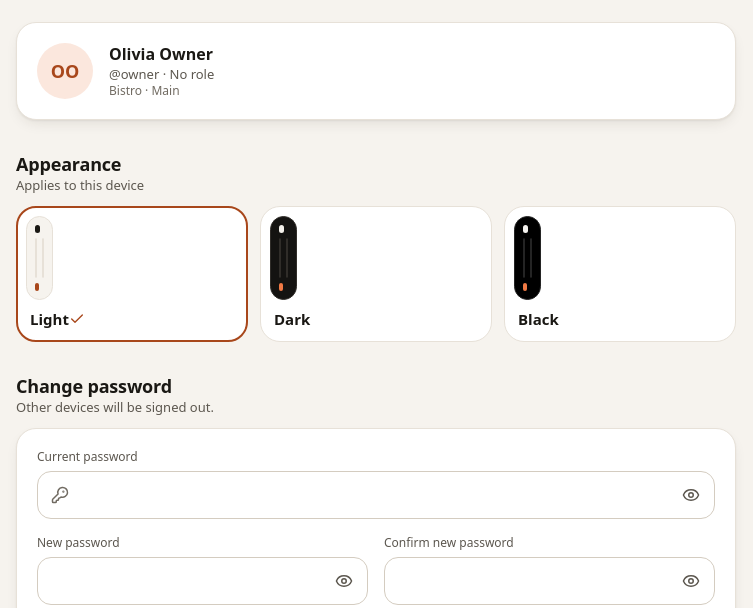
AccountPage — change password › shows an error without field details as a form message
Type "current-pass-1" into the password field labelled "Current password".
click(376, 495); type("current-pass-1")  # box [37,471,715,519]
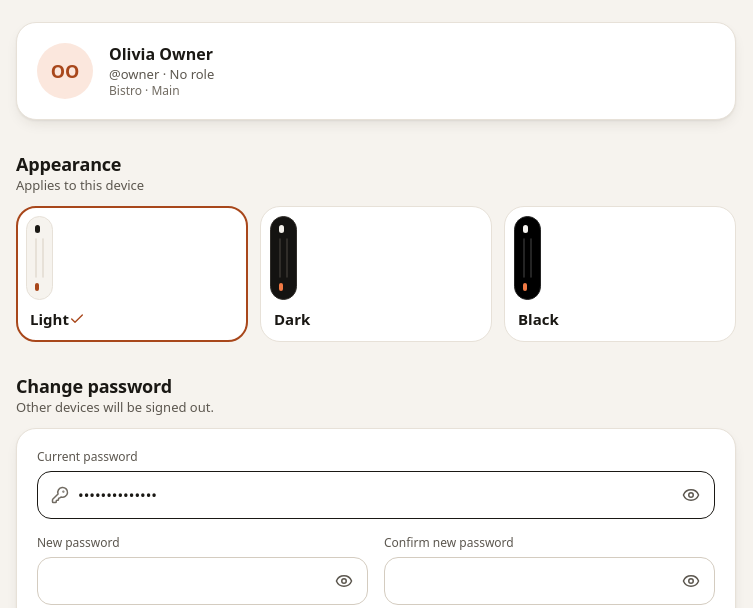
Type "brand-new-pass-9" into the password field labelled "New password".
click(202, 581); type("brand-new-pass-9")  # box [37,557,368,605]
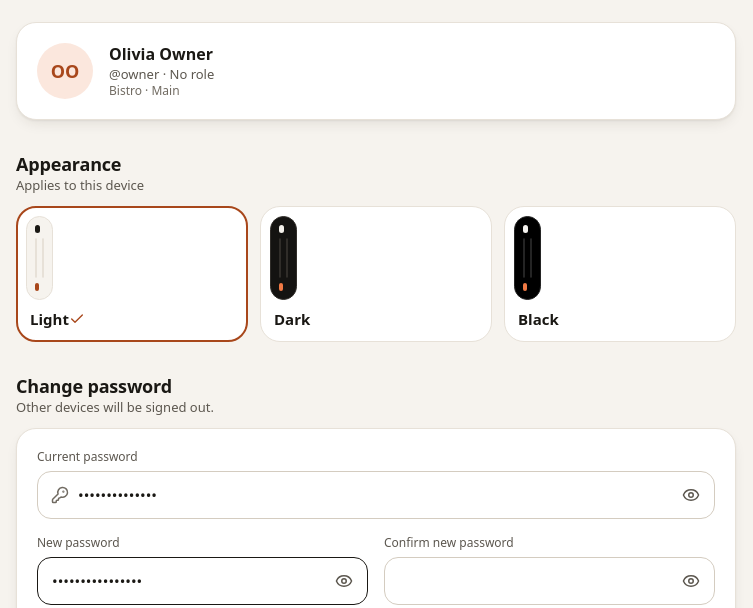
Type "brand-new-pass-9" into the password field labelled "Confirm new password".
click(550, 581); type("brand-new-pass-9")  # box [384,557,715,605]
(page scrolled)
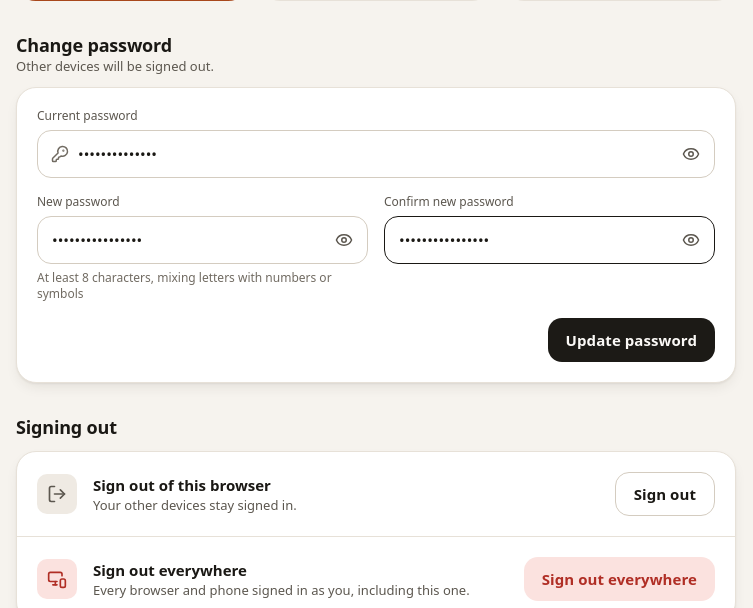
Click the button "Update password".
click(631, 340)  # box [548,318,715,362]
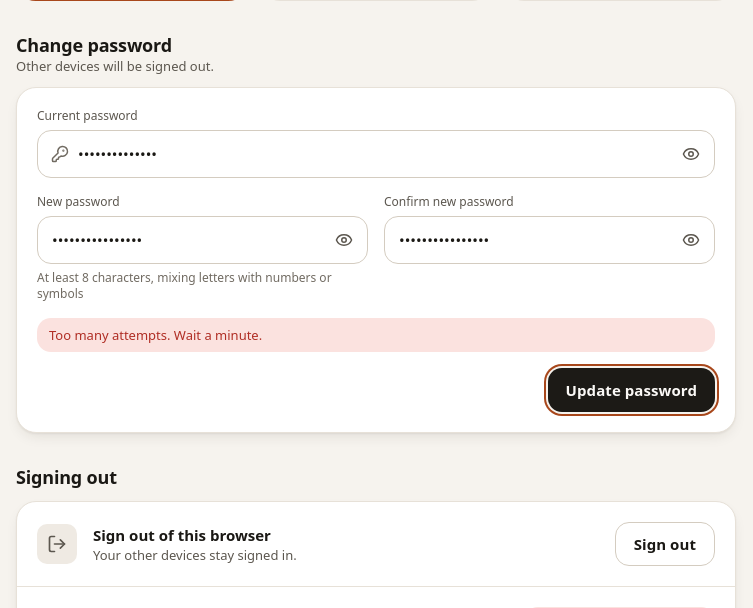
Expected: the message reads "Too many attempts. Wait a minute.", [49,326,262,344]
